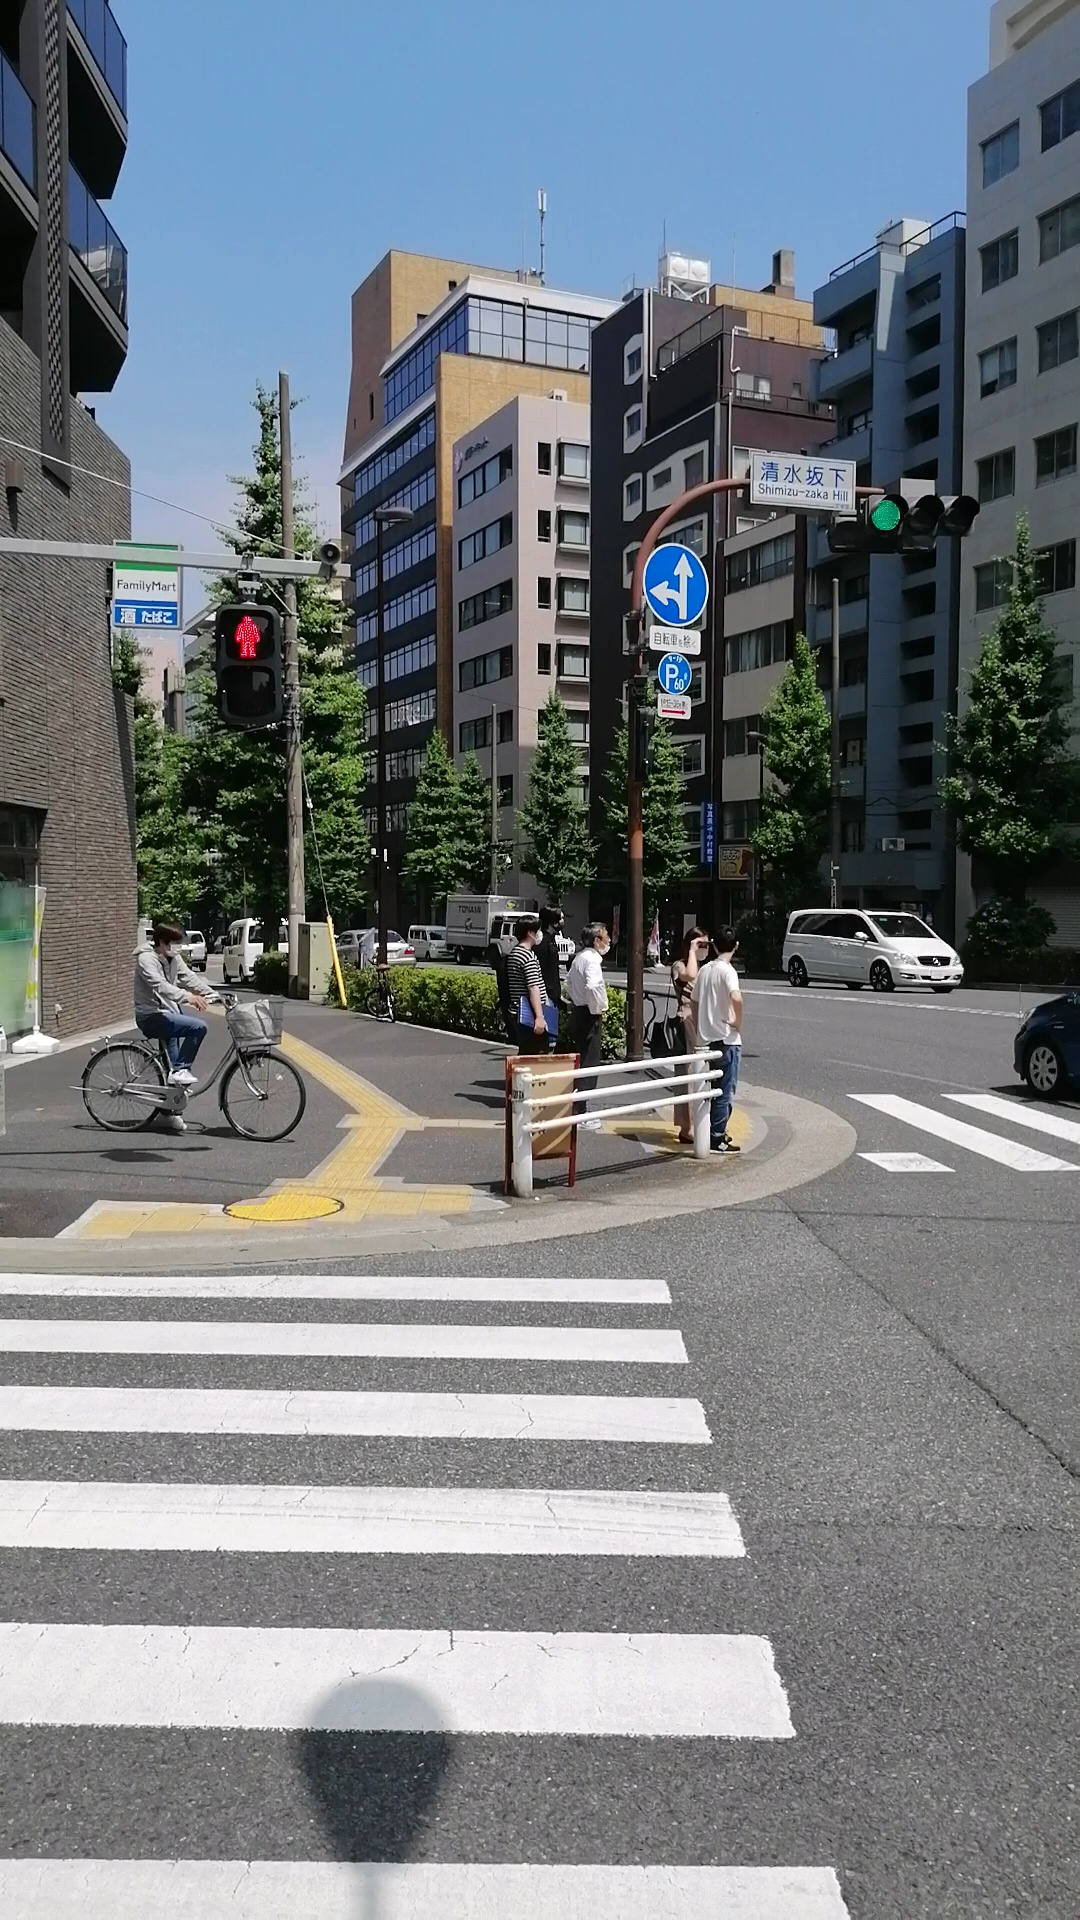red: (214, 604, 284, 727)
